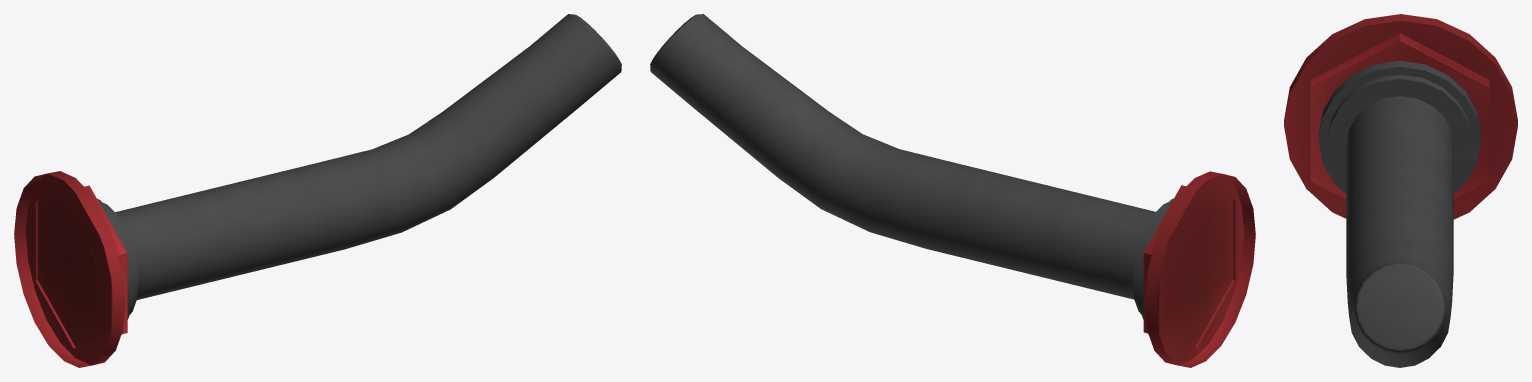
File: palanca.fbx
The picture shows the model from 3 angles, left to right: view 1: azimuth 30°, elevation 25°; view 2: azimuth 150°, elevation 25°; view 3: azimuth 270°, elevation 25°; orthographic projection. The views are drawn at different scales.
Parts seen in each view (by area): view 1: palanca, base_palanca; view 2: palanca, base_palanca; view 3: base_palanca, palanca.
Part boxes in pixels (x1,y1,x2,y2): palanca: (53, 14, 621, 309); base_palanca: (14, 171, 138, 367); palanca: (650, 14, 1217, 308); base_palanca: (1132, 171, 1255, 367); base_palanca: (1284, 14, 1517, 219); palanca: (1346, 96, 1453, 367).
Size of the model in its own units: 0.9024 by 0.3432 by 0.2828.
